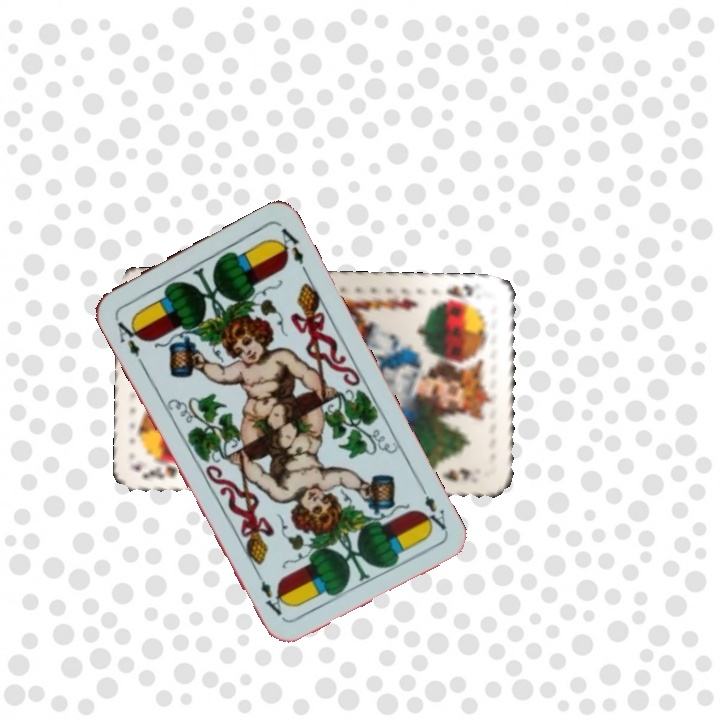EA: (414, 479, 449, 534), (113, 315, 146, 367)
SK: (432, 280, 475, 307), (138, 461, 180, 483)
